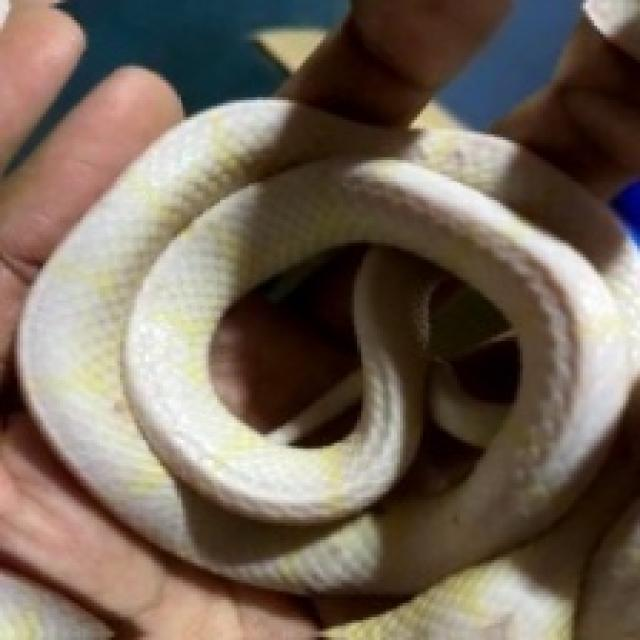gunthers philippine shrub snake: (17, 100, 637, 591), (223, 240, 429, 449), (243, 240, 423, 320)
